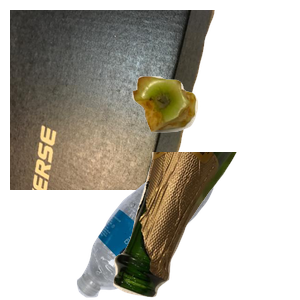cardboard: (10, 10, 217, 190)
glass: (111, 152, 300, 300)
plastic: (74, 156, 280, 300)
trash: (130, 74, 300, 199)
